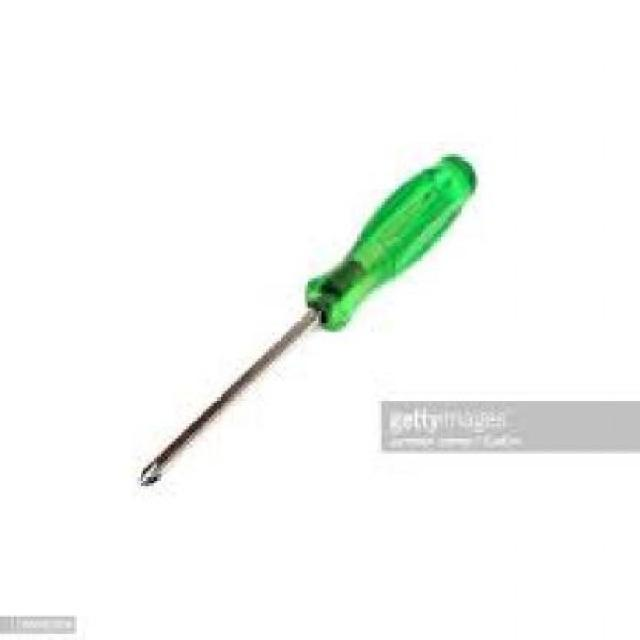screwdriver: (138, 154, 484, 496)
